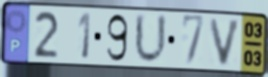1: (76, 11, 92, 63)
2: (33, 9, 61, 60)
7: (180, 13, 206, 70)
9: (105, 12, 130, 63)
U: (133, 11, 168, 67)
V: (208, 17, 244, 68)
